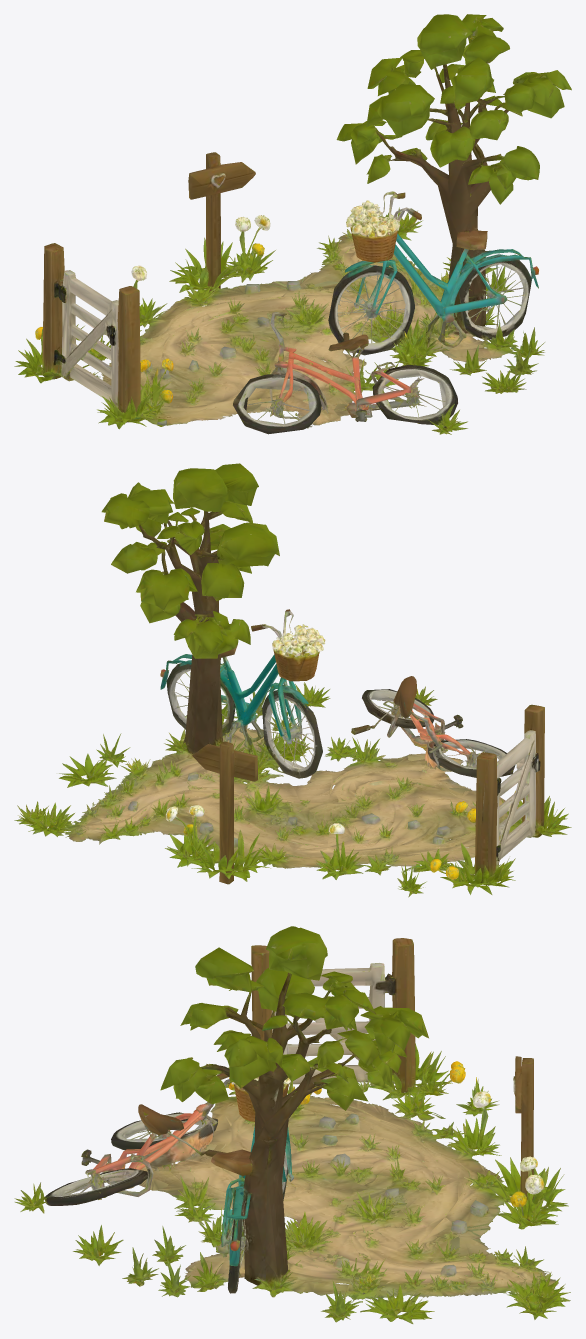
The model's file is bike.glb.
The picture shows the model from 3 angles, top to bottom: view 1: azimuth 30°, elevation 25°; view 2: azimuth 150°, elevation 25°; view 3: azimuth 270°, elevation 25°; orthographic projection. The views are drawn at different scales.
Parts seen in each view (by area): view 1: mesh_node; view 2: mesh_node; view 3: mesh_node.
Boxes of the visible parts, bbox=[...] form: mesh_node: bbox=[14, 14, 571, 434]; mesh_node: bbox=[14, 463, 571, 897]; mesh_node: bbox=[14, 926, 570, 1323].
Size of the model in its own units: 1.9 by 1.22 by 1.71.
Materials: 1 (1 with a texture image).
